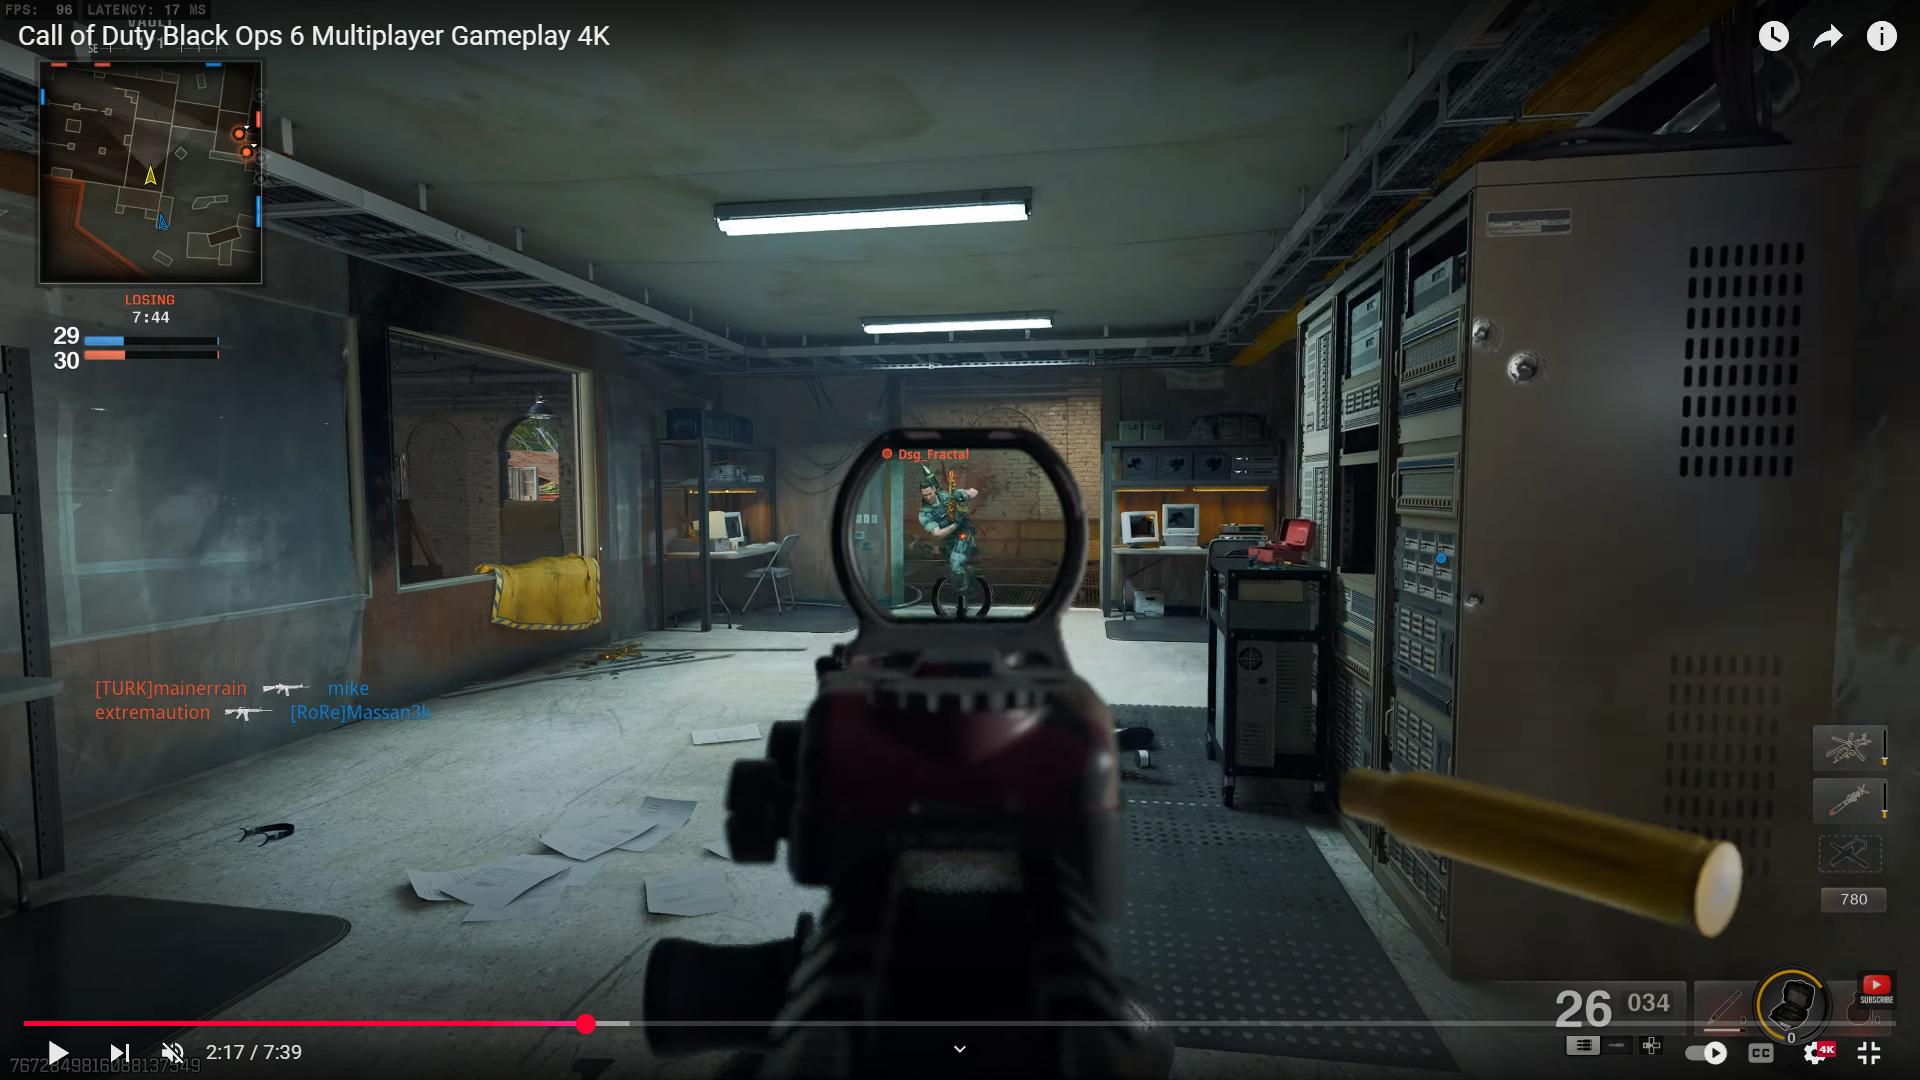Enemy: (903, 475, 998, 595)
